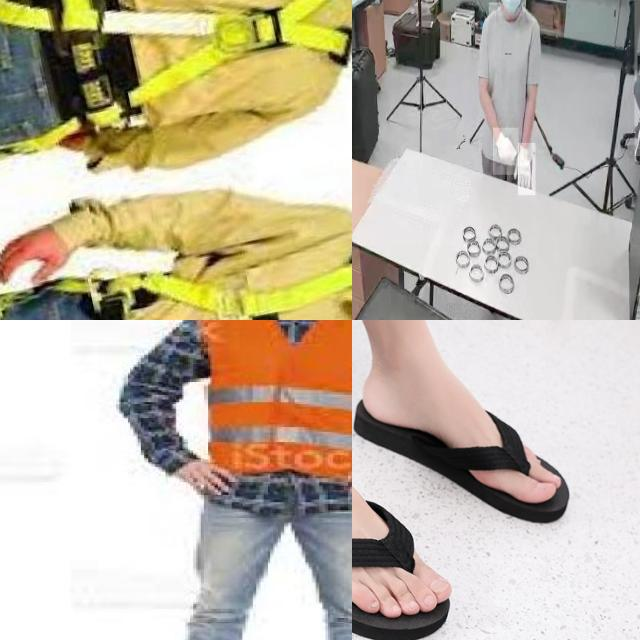Harness: (0, 0, 352, 171), (35, 145, 352, 320)
Sandals: (354, 380, 577, 517)
face_mask: (498, 0, 524, 15)
hand_glove: (493, 128, 519, 176), (518, 143, 536, 196)
hand_noglove: (637, 55, 640, 74)
person: (477, 0, 547, 186)
